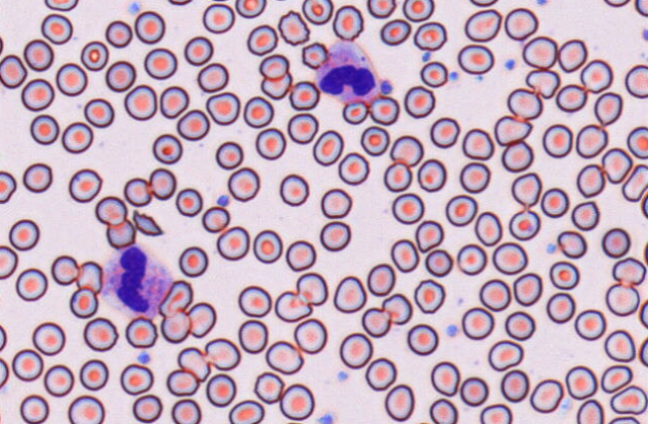GRAN: (100, 242, 175, 316), (316, 41, 377, 102)
PLT: (316, 411, 336, 424), (445, 323, 460, 338), (215, 194, 231, 208), (126, 2, 141, 16), (380, 79, 394, 94), (136, 352, 150, 364), (545, 242, 557, 255), (420, 51, 433, 63), (505, 58, 516, 72), (533, 0, 551, 8), (641, 26, 648, 45), (337, 371, 349, 382), (450, 70, 460, 82)
RBC: (279, 383, 314, 420), (265, 340, 303, 374), (464, 8, 501, 42), (333, 275, 366, 313), (293, 318, 327, 354), (123, 84, 157, 120), (83, 317, 118, 351), (529, 378, 563, 413), (522, 35, 557, 69), (205, 91, 240, 125), (204, 337, 240, 370), (339, 332, 372, 368), (274, 290, 311, 322), (494, 115, 532, 146), (605, 282, 639, 316), (68, 168, 102, 202), (177, 346, 210, 381), (492, 241, 527, 274), (580, 58, 613, 93), (216, 225, 249, 260), (575, 123, 608, 158), (487, 339, 523, 371), (506, 87, 542, 119), (332, 4, 363, 41), (312, 129, 343, 166), (609, 384, 647, 414), (384, 383, 414, 421), (32, 321, 65, 355), (461, 306, 494, 340), (504, 7, 538, 40), (277, 10, 309, 45), (227, 166, 259, 201), (413, 278, 445, 313), (601, 147, 632, 183), (457, 44, 494, 74), (67, 395, 105, 424), (461, 127, 494, 160), (21, 78, 54, 111), (119, 363, 153, 395), (565, 365, 597, 399), (15, 267, 47, 301), (389, 134, 423, 166), (55, 62, 87, 96), (143, 47, 177, 79), (542, 123, 573, 158), (187, 301, 216, 338), (11, 348, 43, 381), (364, 357, 396, 390), (479, 278, 511, 311), (238, 285, 271, 317), (403, 85, 435, 118), (391, 192, 424, 224), (176, 108, 209, 140), (205, 373, 236, 407), (338, 151, 369, 185), (134, 10, 165, 44), (525, 68, 560, 98), (430, 361, 460, 396), (125, 316, 157, 348), (501, 140, 533, 172), (406, 323, 438, 355), (574, 308, 606, 340), (445, 194, 477, 226), (61, 121, 93, 153), (296, 272, 327, 305), (43, 364, 74, 397), (253, 371, 284, 404), (255, 127, 286, 160), (604, 329, 635, 362), (202, 2, 235, 33), (612, 256, 646, 286), (238, 319, 268, 353), (511, 172, 541, 206), (416, 158, 446, 192), (512, 272, 542, 306), (557, 38, 587, 72), (252, 229, 282, 263), (576, 163, 605, 198), (246, 24, 278, 55), (508, 209, 540, 240), (459, 161, 490, 193), (287, 112, 318, 144), (319, 220, 351, 251), (8, 218, 39, 250), (320, 187, 352, 218), (285, 239, 316, 271), (40, 13, 72, 44), (105, 60, 136, 92), (279, 173, 309, 206), (413, 21, 446, 51), (243, 95, 273, 128), (23, 38, 53, 71), (159, 85, 189, 118), (621, 163, 647, 201), (390, 238, 419, 272), (593, 91, 622, 125), (474, 211, 502, 246), (105, 218, 136, 249), (381, 293, 412, 324), (160, 311, 190, 343), (95, 195, 127, 225), (178, 245, 208, 277), (429, 116, 459, 148), (456, 243, 486, 275), (500, 369, 529, 402), (414, 219, 443, 252), (366, 263, 395, 296), (504, 310, 535, 340), (197, 62, 228, 92), (152, 133, 182, 164), (83, 97, 114, 127), (600, 364, 632, 393), (383, 160, 412, 192), (79, 358, 108, 390), (555, 83, 587, 112), (166, 368, 199, 396), (148, 167, 176, 200), (0, 54, 27, 88), (361, 307, 391, 337), (289, 80, 319, 110), (369, 95, 399, 125), (183, 35, 213, 65), (22, 162, 52, 192), (69, 287, 98, 318), (360, 125, 389, 156), (546, 292, 575, 323), (601, 227, 630, 258), (30, 114, 59, 145), (19, 394, 49, 423), (459, 376, 488, 406), (132, 394, 162, 423), (549, 260, 579, 289), (540, 187, 569, 217), (51, 254, 79, 285), (80, 40, 108, 71), (260, 72, 292, 99), (228, 399, 264, 423), (123, 177, 152, 206), (424, 248, 453, 277), (571, 200, 599, 230), (380, 18, 411, 45), (215, 140, 243, 169), (557, 230, 586, 258), (259, 53, 289, 80), (175, 187, 202, 217), (301, 0, 333, 25), (624, 64, 647, 98), (301, 41, 328, 69), (420, 60, 448, 87), (201, 206, 230, 232), (171, 398, 201, 423), (105, 20, 132, 47), (429, 398, 458, 423), (626, 125, 647, 159), (402, 0, 434, 22), (576, 399, 604, 423), (479, 403, 512, 423), (0, 244, 18, 279), (342, 100, 368, 124), (234, 0, 266, 18), (366, 0, 396, 18), (0, 170, 16, 203), (44, 0, 78, 11), (639, 335, 648, 367), (0, 357, 9, 388), (639, 298, 648, 328), (607, 415, 640, 423), (640, 188, 648, 219), (635, 0, 648, 16), (469, 0, 498, 7), (0, 323, 7, 351), (603, 0, 630, 7), (643, 239, 648, 267), (167, 0, 193, 5), (280, 420, 308, 424), (0, 34, 4, 55), (0, 287, 3, 314), (412, 421, 434, 424), (206, 0, 231, 2), (269, 0, 293, 1)
Schistocyte: (158, 279, 193, 317), (132, 211, 164, 236), (77, 261, 102, 293)
